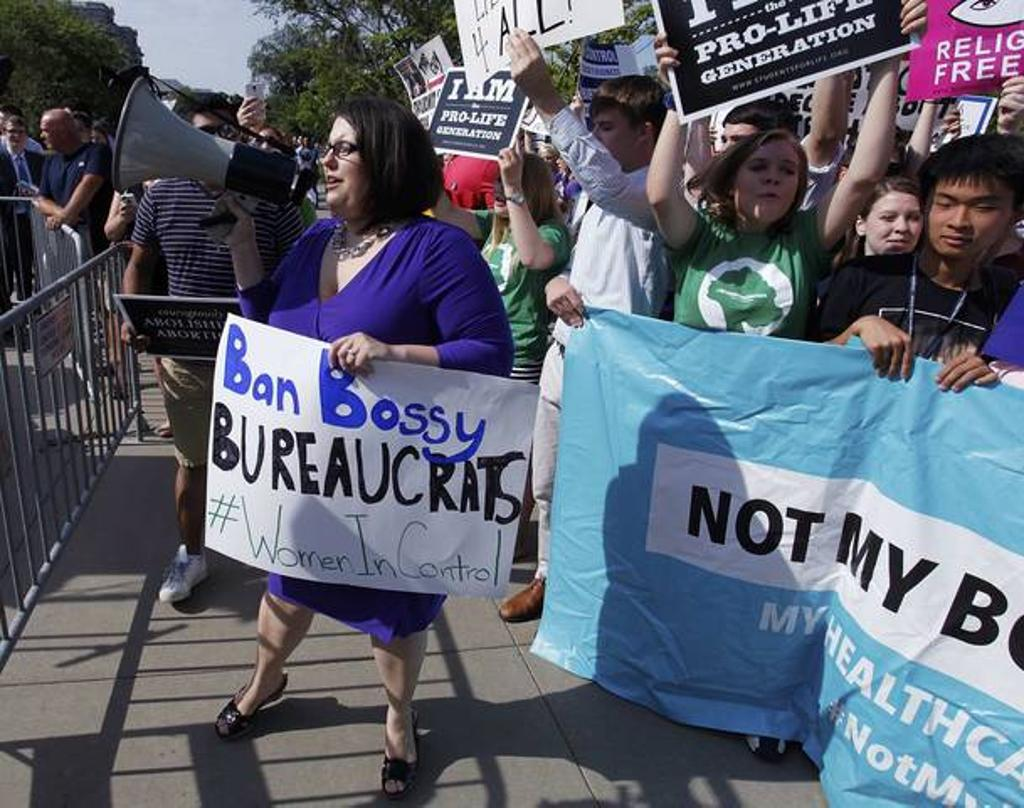face: (927, 175, 1012, 260), (737, 147, 798, 223), (323, 120, 378, 203), (868, 196, 922, 257), (590, 108, 636, 165), (722, 126, 762, 174), (489, 166, 526, 214), (192, 117, 226, 161), (40, 122, 59, 149), (7, 126, 26, 147), (259, 134, 276, 155), (557, 154, 571, 175), (73, 124, 86, 143), (540, 154, 553, 169), (91, 134, 101, 148), (304, 139, 310, 147)
